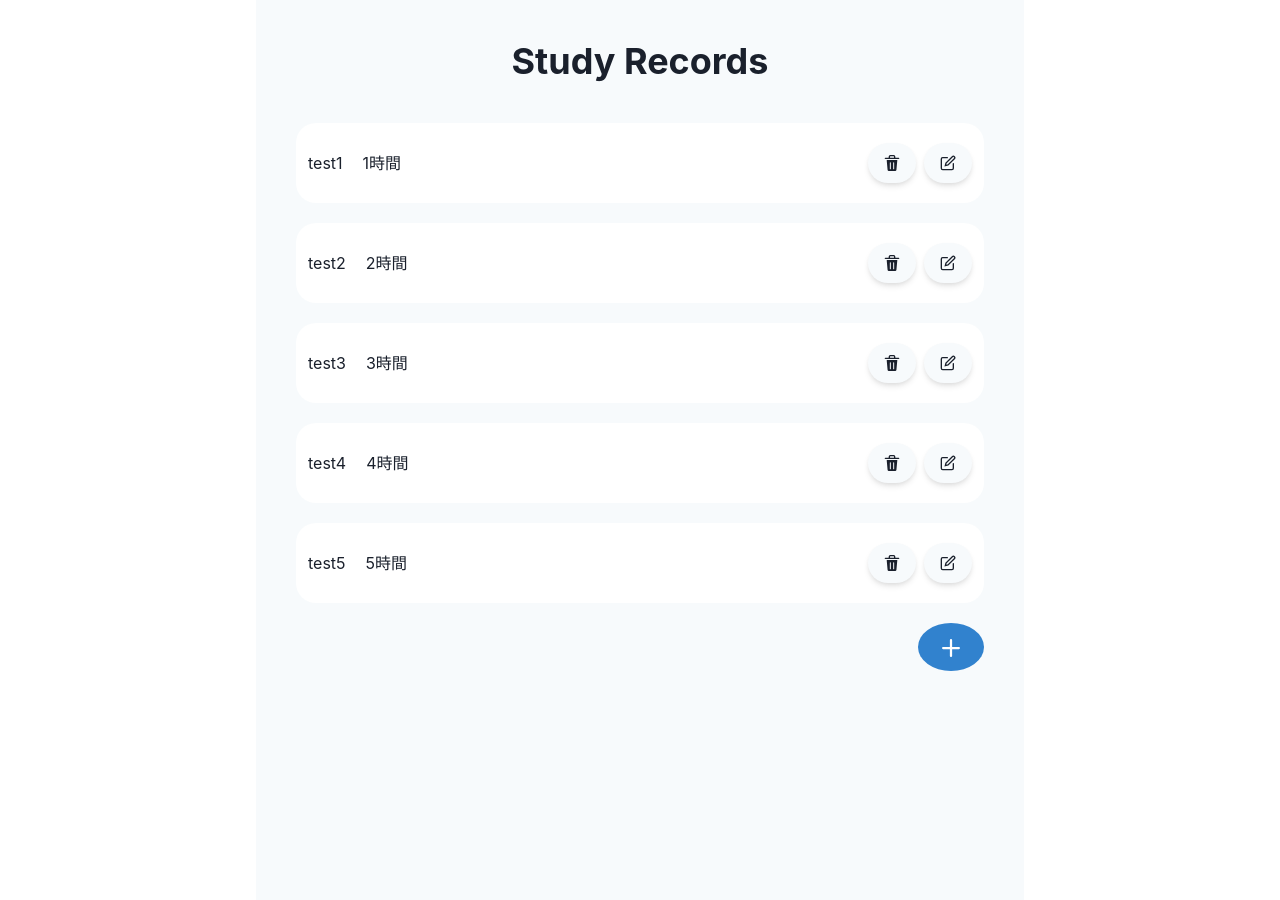
Test: App › モーダルの編集タイトルがあること
Click the button with test id "edit-button-1" at (948, 163), box [924,143,972,183]
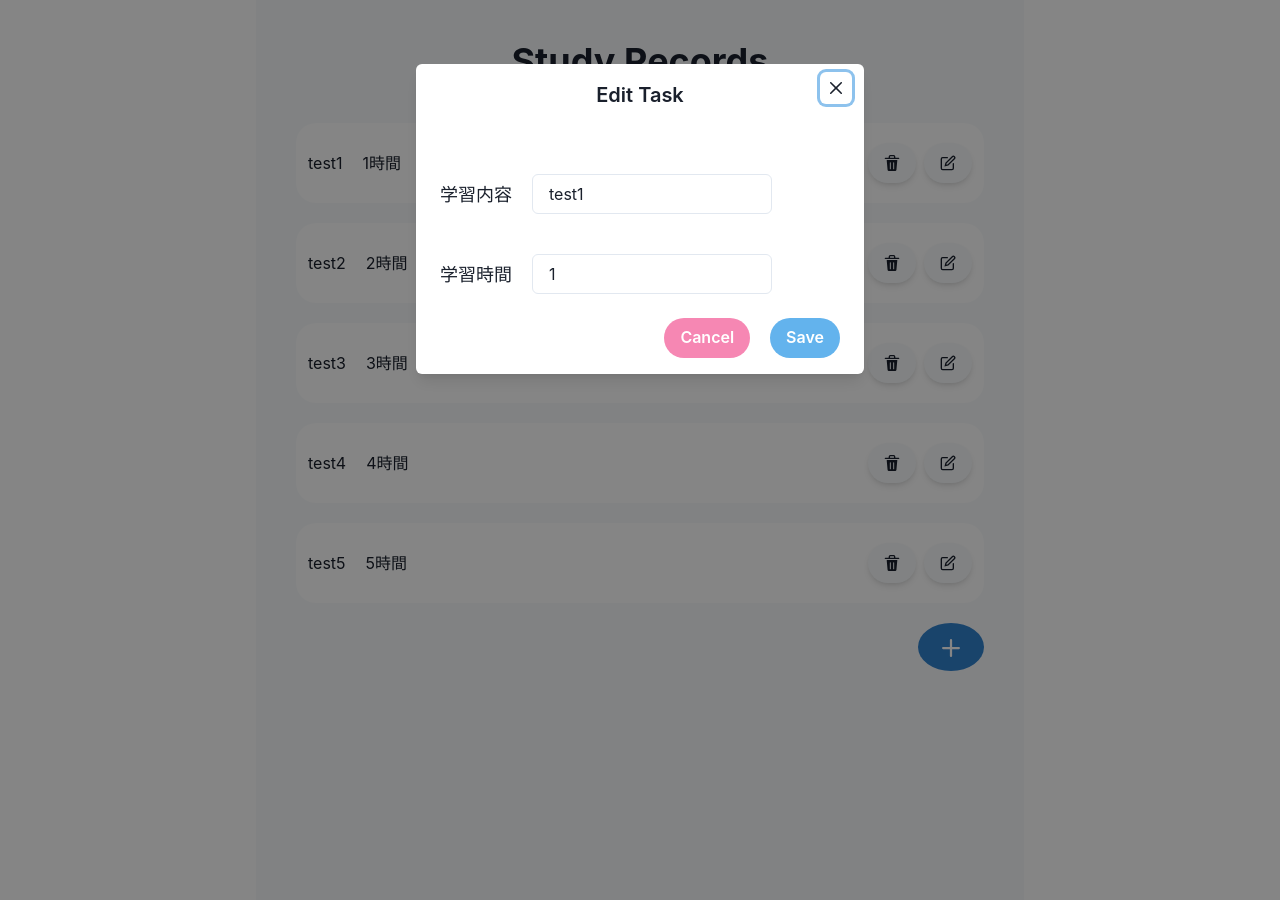
Result: the text "Edit Task" is shown at [596,83,684,107]
